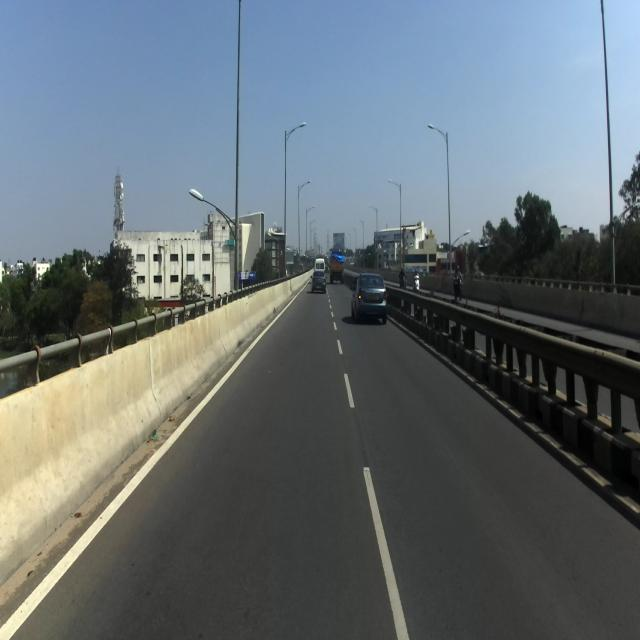car ahead at: (352, 270, 391, 328)
